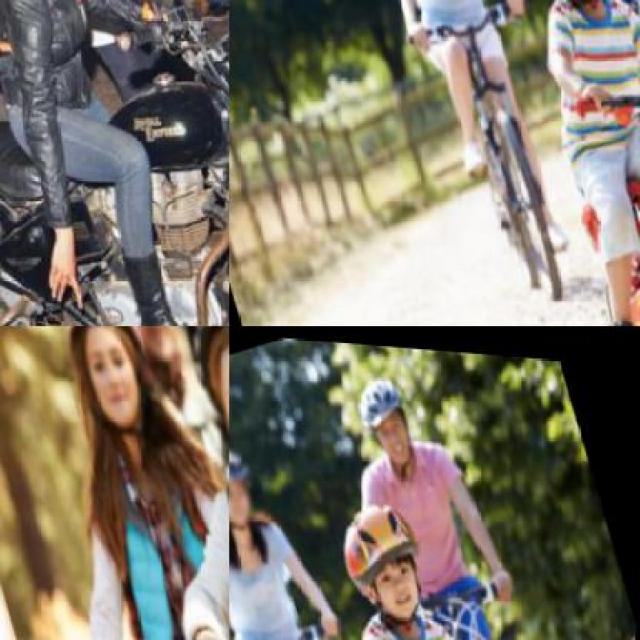With Helmet: (323, 473, 457, 633), (31, 326, 189, 452), (142, 326, 228, 534), (342, 356, 436, 476), (83, 326, 219, 385), (229, 431, 280, 537)
